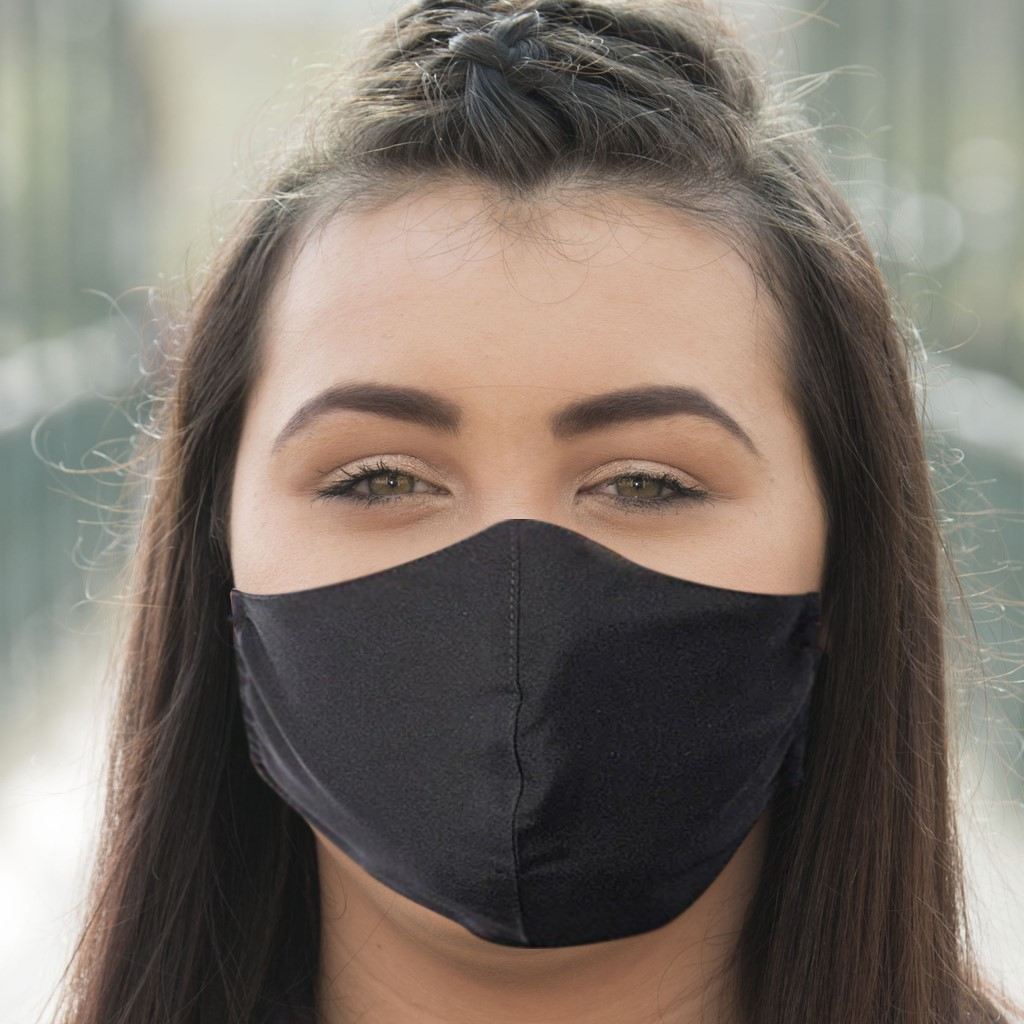con_mascara: (197, 114, 831, 947)
